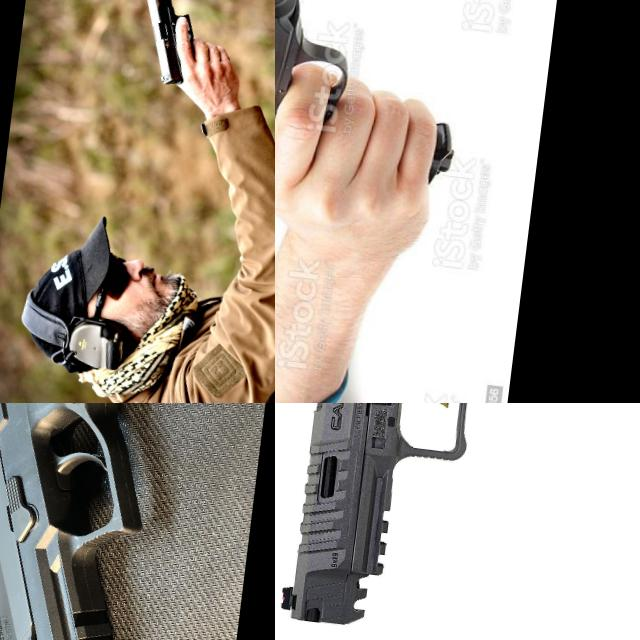handgun: (275, 403, 640, 640), (0, 403, 270, 640), (275, 0, 362, 186), (128, 0, 202, 88)
